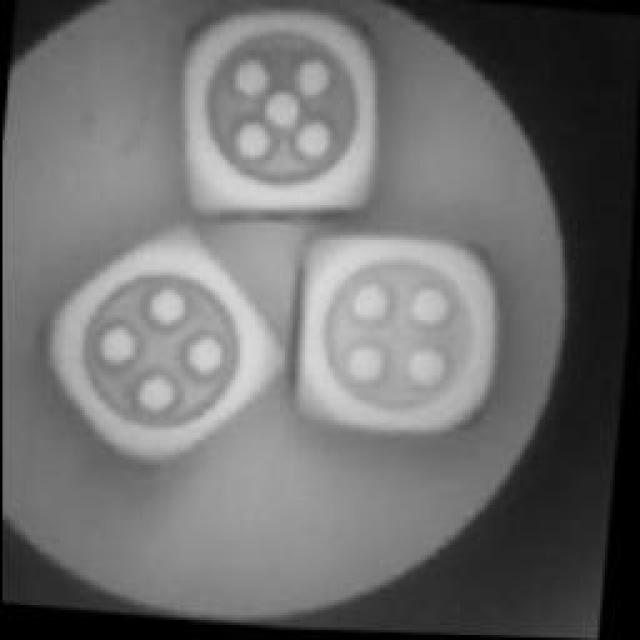dice_4: (39, 235, 299, 473), (280, 234, 520, 448)
dice_5: (170, 6, 395, 226)
